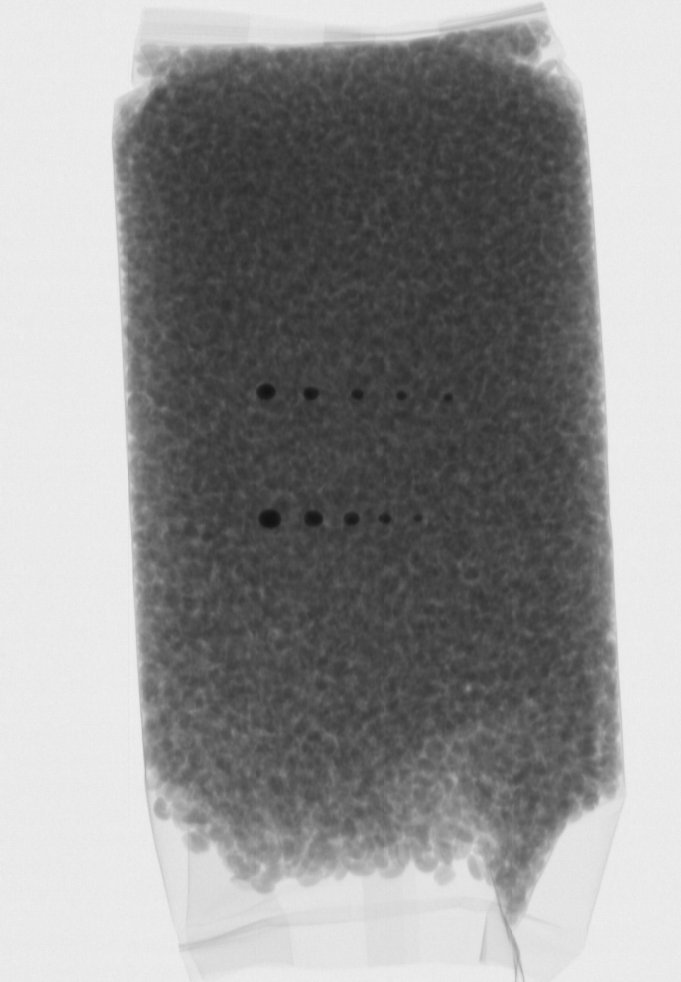glass: (256, 506, 281, 532), (302, 506, 324, 530), (344, 505, 361, 530), (255, 379, 277, 398), (301, 384, 320, 399), (378, 507, 392, 526), (350, 388, 367, 402), (392, 386, 408, 400), (414, 510, 428, 525), (442, 390, 456, 404)
glass_area: (245, 366, 469, 418), (246, 495, 442, 538)
